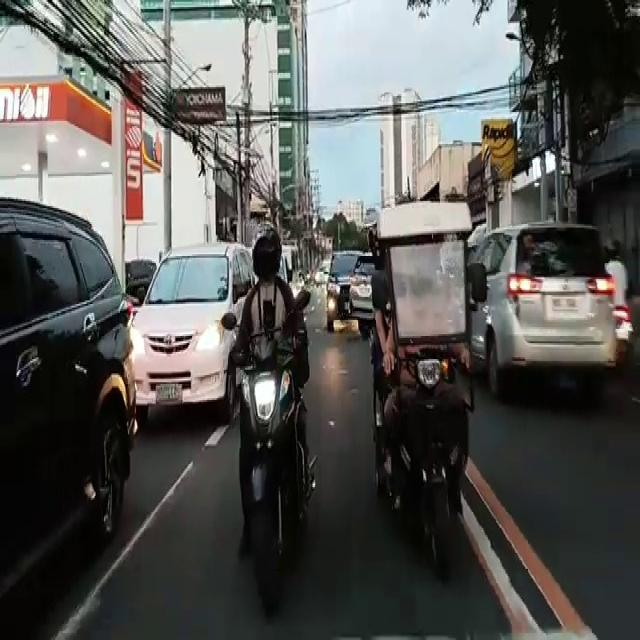car: (0, 217, 132, 529), (472, 230, 610, 400), (137, 244, 243, 418)
motorcycle: (375, 227, 469, 560), (252, 265, 324, 566)
